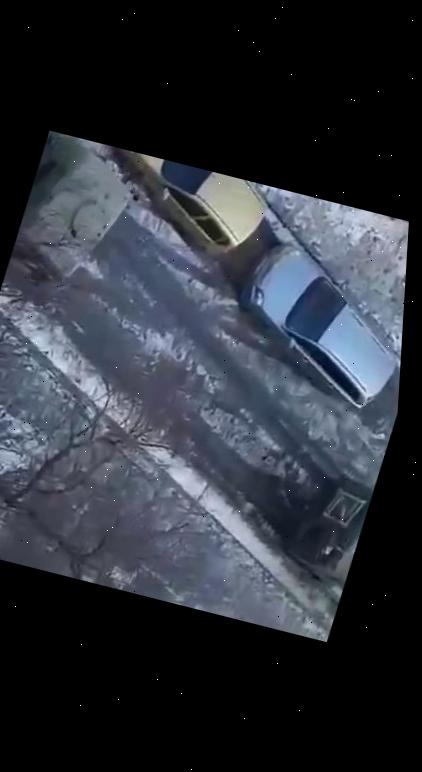armored_car: (255, 462, 378, 642)
car: (215, 236, 408, 417), (88, 147, 279, 267)
truck: (1, 130, 146, 304)
